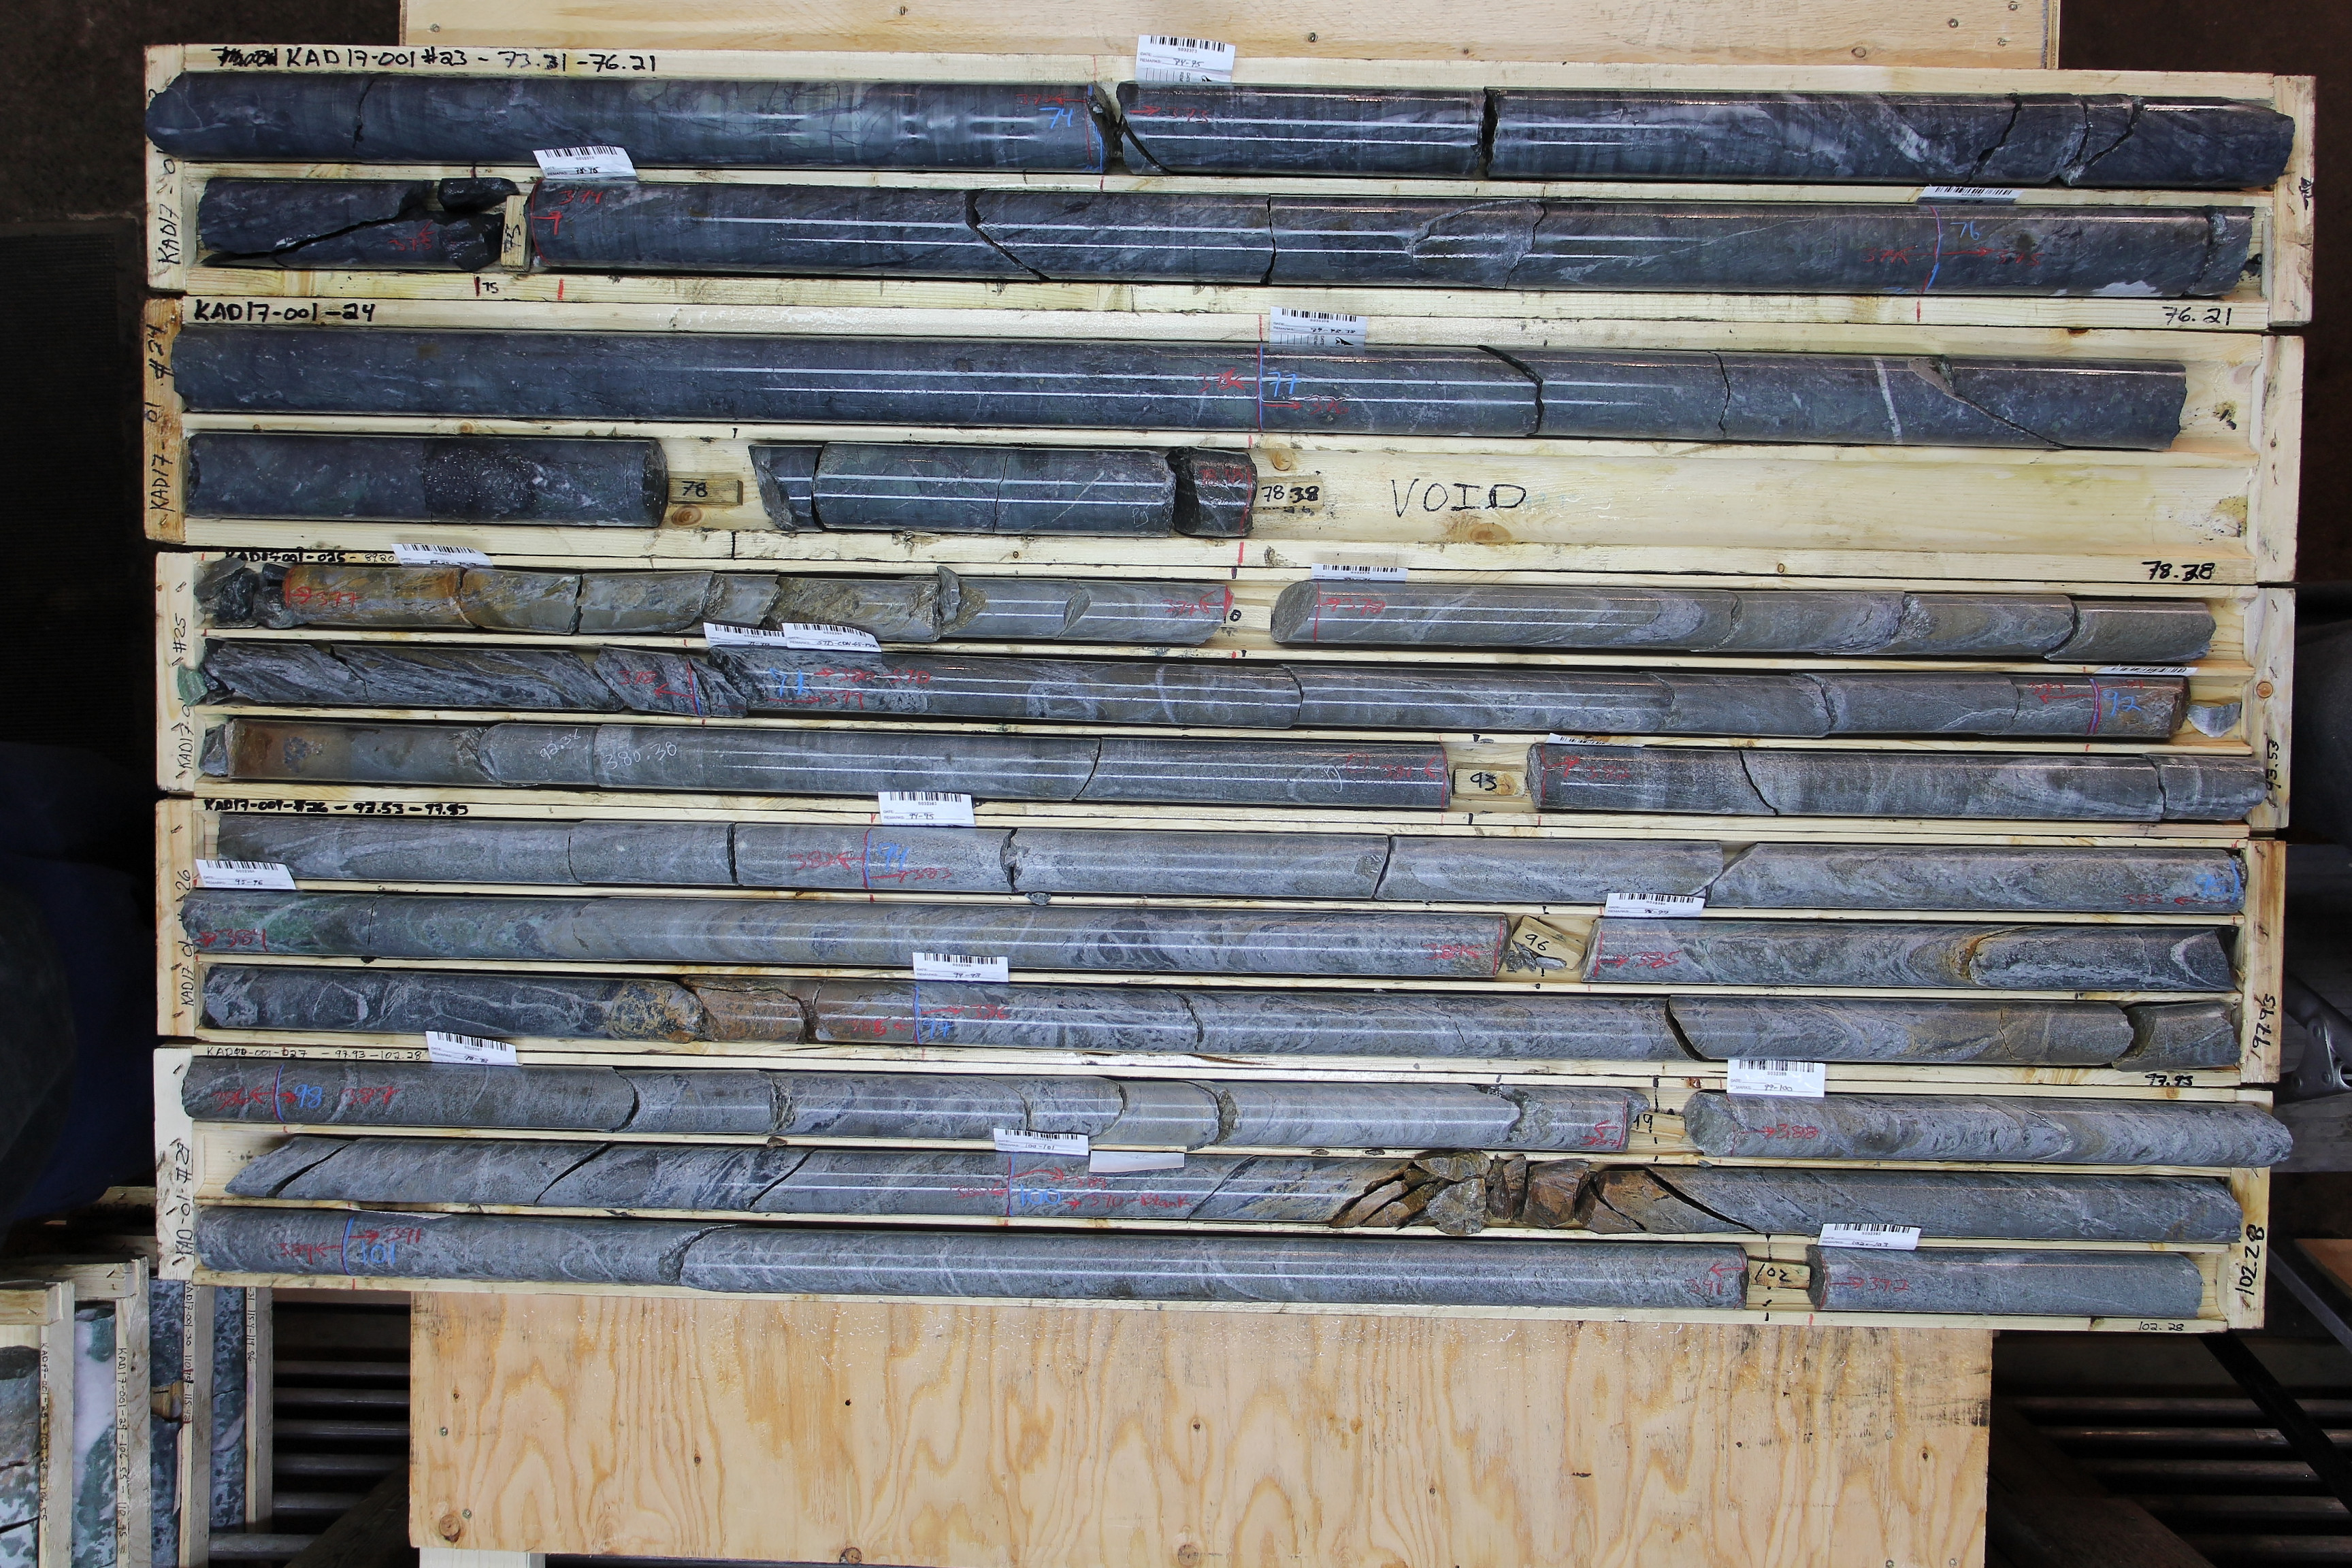rock-KAD17_001-100-100x: (1012, 1153, 2230, 1240)
rock-KAD17_001-100x-101: (201, 1208, 345, 1273)
rock-KAD17_001-101-102: (346, 1211, 1747, 1309)
rock-KAD17_001-102-102.28: (1818, 1246, 2199, 1317)
rock-KAD17_001-73.31-74: (186, 73, 1102, 168)
rock-KAD17_001-74-74x: (1119, 86, 2272, 186)
rock-KAD17_001-74x-75: (202, 178, 502, 264)
rock-KAD17_001-75-76: (536, 188, 1938, 293)
rock-KAD17_001-76-76x: (1940, 208, 2258, 297)
rock-KAD17_001-76x-77: (182, 331, 1261, 428)
rock-KAD17_001-77-77x: (1263, 347, 2180, 446)
rock-KAD17_001-77x-78: (189, 431, 659, 525)
rock-KAD17_001-78-78.38: (755, 444, 1245, 535)
rock-KAD17_001-89.20-90: (289, 570, 1228, 646)
rock-KAD17_001-90-90x: (1314, 581, 2216, 660)
rock-KAD17_001-90x-91: (208, 640, 693, 714)
rock-KAD17_001-91-92: (699, 649, 2089, 741)
rock-KAD17_001-92-92x: (2088, 680, 2189, 740)
rock-KAD17_001-92x-93: (208, 719, 1450, 808)
rock-KAD17_001-93-93x: (1541, 748, 2253, 821)
rock-KAD17_001-93x-94: (216, 815, 868, 887)
rock-KAD17_001-94-95: (870, 830, 2241, 913)
rock-KAD17_001-95-96: (197, 894, 1498, 975)
rock-KAD17_001-96-96x: (1597, 921, 2236, 987)
rock-KAD17_001-96x-97: (203, 970, 917, 1044)
rock-KAD17_001-97-97x: (921, 985, 2238, 1068)
rock-KAD17_001-97x-98: (192, 1059, 278, 1122)
rock-KAD17_001-98-99: (280, 1063, 1622, 1149)
rock-KAD17_001-99-99x: (1722, 1096, 2235, 1164)
rock-KAD17_001-99x-100: (274, 1134, 1012, 1215)
